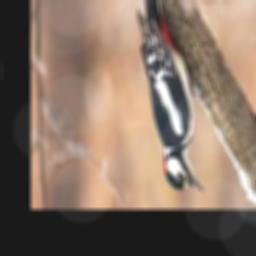Woodpecker: (137, 0, 204, 192)
